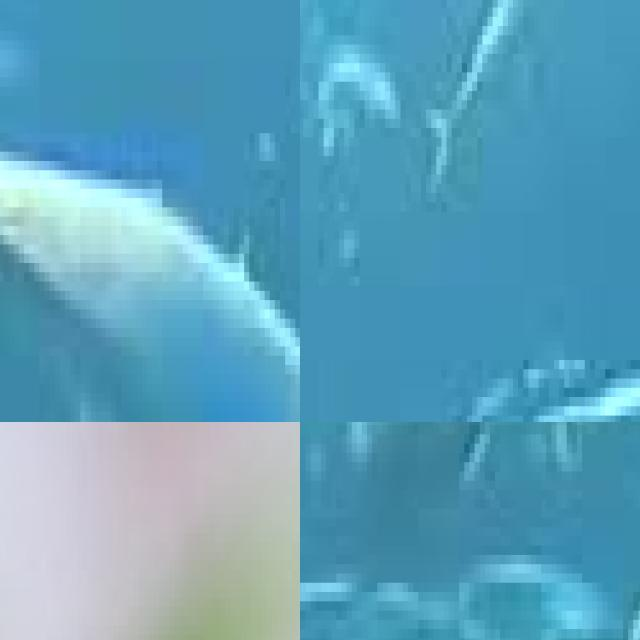fish: (0, 3, 300, 422)
